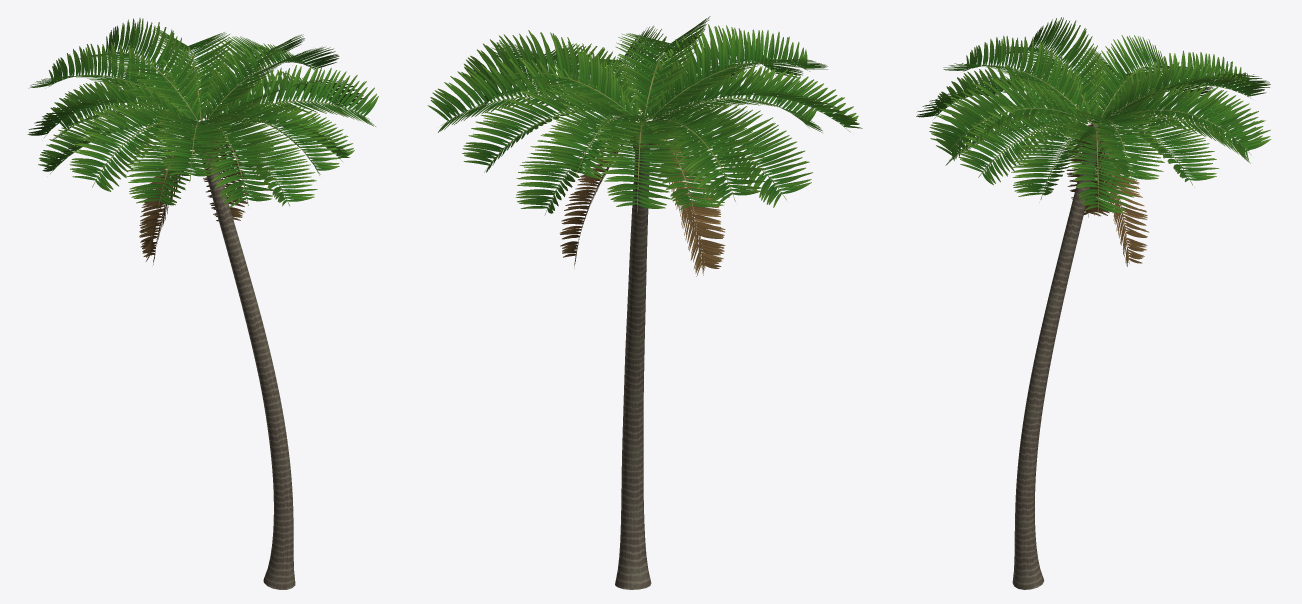
The model's file is palm_tree_02.glb.
3 views of the same model, side by side, from view 1: azimuth 30°, elevation 25°; view 2: azimuth 150°, elevation 25°; view 3: azimuth 270°, elevation 25° (orthographic). The views are drawn at different scales.
Parts seen in each view (by area): view 1: palm_tree_02; view 2: palm_tree_02; view 3: palm_tree_02.
Part boxes in pixels (x1=…): palm_tree_02: x1=27, y1=18, x2=378, y2=589; palm_tree_02: x1=427, y1=16, x2=862, y2=589; palm_tree_02: x1=916, y1=17, x2=1271, y2=589.
Size of what is drawn, in the model's own units: 7.95 by 11.1 by 7.84.
3 materials, 3 textured.
